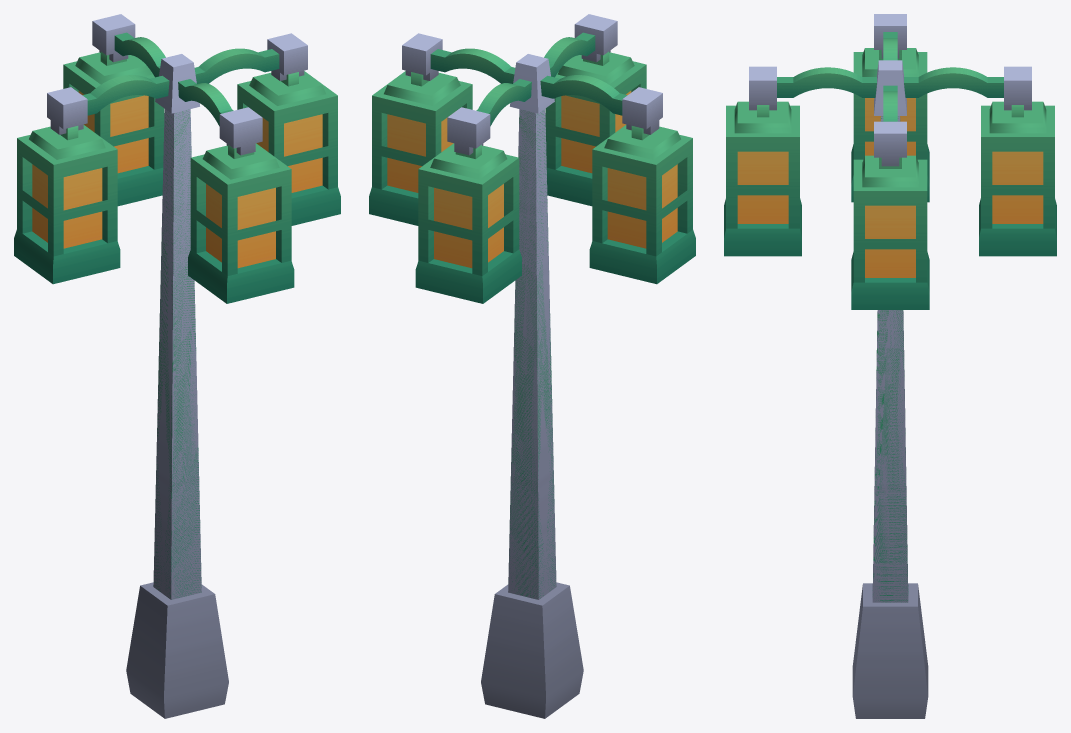
Rendered from lightpost-all.glb.
The picture shows the model from 3 angles, left to right: view 1: azimuth 30°, elevation 25°; view 2: azimuth 150°, elevation 25°; view 3: azimuth 270°, elevation 25°; orthographic projection.
Parts seen in each view (by area): view 1: Asset3DLoader.sceneRoot; view 2: Asset3DLoader.sceneRoot; view 3: Asset3DLoader.sceneRoot.
Part boxes in pixels (box(x1,y1,x2,y2)): Asset3DLoader.sceneRoot: box(14, 14, 340, 718); Asset3DLoader.sceneRoot: box(369, 14, 695, 718); Asset3DLoader.sceneRoot: box(724, 14, 1056, 718).
Size of the model in its own units: 0.6225 by 1.32 by 0.6225.
Materials: 1 (1 with a texture image).
